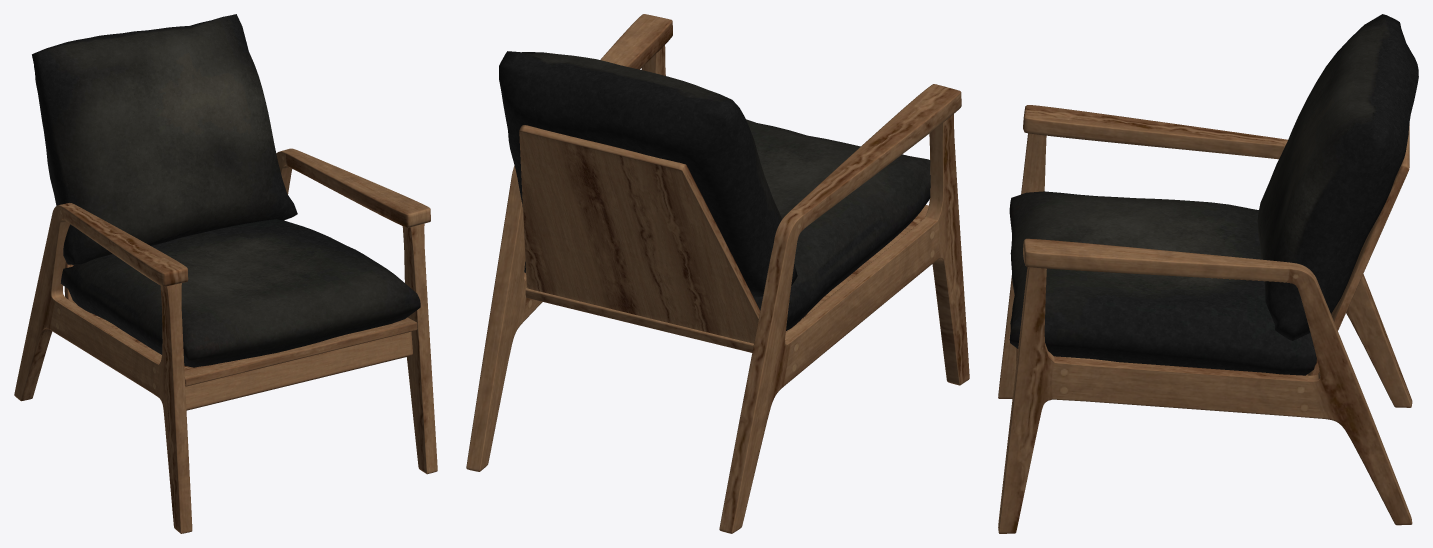
3 renders of one model, left to right at view 1: azimuth 30°, elevation 25°; view 2: azimuth 150°, elevation 25°; view 3: azimuth 270°, elevation 25°, orthographic. The views are drawn at different scales.
Parts seen in each view (by area): view 1: modern_arm_chair_01; view 2: modern_arm_chair_01; view 3: modern_arm_chair_01.
Boxes of the visible parts, x1,y1,x2,y2 form: modern_arm_chair_01: (14, 14, 437, 533); modern_arm_chair_01: (466, 14, 969, 533); modern_arm_chair_01: (998, 14, 1418, 533).
Bounding box in the file's own units: 0.8203 × 1.02 × 0.9866.
2 materials, 2 textured.
